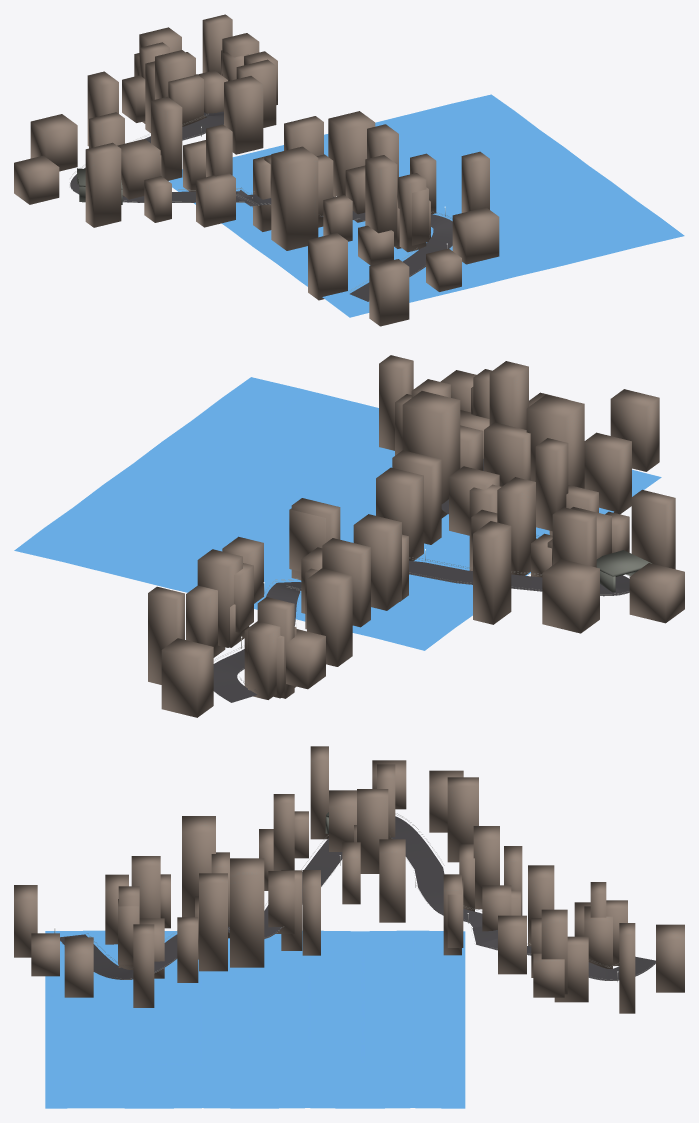
File: stage2_canyon.glb
The picture shows the model from 3 angles, top to bottom: view 1: azimuth 30°, elevation 25°; view 2: azimuth 150°, elevation 25°; view 3: azimuth 270°, elevation 25°; orthographic projection. The views are drawn at different scales.
Visible parts, largest first — view 1: Visual_Ocean, Visual_Cliff_42_-1, Visual_Track, Visual_Cliff_78_-1, Visual_Cliff_102_1, Visual_Cliff_0_1, Visual_Cliff_42_1, Visual_Cliff_30_-1, Visual_Cliff_0_-1, Visual_Cliff_12_1, Visual_Cliff_96_1, Visual_Cliff_90_-1 (+30 smaller); view 2: Visual_Ocean, Visual_Cliff_42_1, Visual_Track, Visual_Cliff_96_-1, Visual_Cliff_156_1, Visual_Cliff_90_-1, Visual_Cliff_132_-1, Visual_Cliff_42_-1, Visual_Cliff_0_-1, Visual_Cliff_102_-1, Visual_Cliff_78_-1, Visual_Cliff_0_1 (+32 smaller); view 3: Visual_Ocean, Visual_Track, Visual_Cliff_42_1, Visual_Cliff_30_1, Visual_Cliff_42_-1, Visual_Cliff_96_1, Visual_Cliff_96_-1, Visual_Cliff_102_1, Visual_Cliff_156_1, Visual_Cliff_18_1, Visual_Cliff_12_1, Visual_Cliff_102_-1 (+35 smaller).
Part boxes in pixels (x1=…): Visual_Ocean: x1=168, y1=94, x2=684, y2=317; Visual_Cliff_42_-1: x1=271, y1=146, x2=318, y2=250; Visual_Track: x1=70, y1=111, x2=452, y2=301; Visual_Cliff_78_-1: x1=85, y1=142, x2=121, y2=227; Visual_Cliff_102_1: x1=224, y1=76, x2=263, y2=154; Visual_Cliff_0_1: x1=369, y1=259, x2=409, y2=326; Visual_Cliff_42_1: x1=328, y1=111, x2=375, y2=197; Visual_Cliff_30_-1: x1=365, y1=155, x2=397, y2=246; Visual_Cliff_0_-1: x1=308, y1=233, x2=347, y2=300; Visual_Cliff_12_1: x1=452, y1=207, x2=499, y2=264; Visual_Cliff_96_1: x1=151, y1=96, x2=182, y2=180; Visual_Cliff_90_-1: x1=30, y1=114, x2=77, y2=171; Visual_Ocean: x1=14, y1=377, x2=661, y2=650; Visual_Cliff_42_1: x1=402, y1=391, x2=460, y2=518; Visual_Track: x1=213, y1=459, x2=629, y2=702; Visual_Cliff_96_-1: x1=473, y1=521, x2=511, y2=624; Visual_Cliff_156_1: x1=161, y1=638, x2=213, y2=717; Visual_Cliff_90_-1: x1=542, y1=559, x2=599, y2=633; Visual_Cliff_132_-1: x1=307, y1=568, x2=352, y2=666; Visual_Cliff_42_-1: x1=526, y1=394, x2=584, y2=488; Visual_Cliff_0_-1: x1=584, y1=432, x2=631, y2=514; Visual_Cliff_102_-1: x1=353, y1=514, x2=401, y2=610; Visual_Cliff_78_-1: x1=631, y1=489, x2=675, y2=569; Visual_Cliff_0_1: x1=610, y1=389, x2=659, y2=471; Visual_Ocean: x1=45, y1=930, x2=465, y2=1108; Visual_Track: x1=60, y1=816, x2=655, y2=980; Visual_Cliff_42_1: x1=230, y1=858, x2=264, y2=967; Visual_Cliff_30_1: x1=199, y1=873, x2=227, y2=971; Visual_Cliff_42_-1: x1=182, y1=816, x2=215, y2=917; Visual_Cliff_96_1: x1=357, y1=789, x2=388, y2=873; Visual_Cliff_96_-1: x1=447, y1=777, x2=478, y2=862; Visual_Cliff_102_1: x1=379, y1=839, x2=405, y2=922; Visual_Cliff_156_1: x1=656, y1=924, x2=684, y2=992; Visual_Cliff_18_1: x1=133, y1=924, x2=154, y2=1007; Visual_Cliff_12_1: x1=64, y1=937, x2=93, y2=997; Visual_Cliff_102_-1: x1=473, y1=826, x2=499, y2=909.
Size of what is drawn, in the model's own units: 241 by 52.91 by 256.
3 materials, 3 textured.
